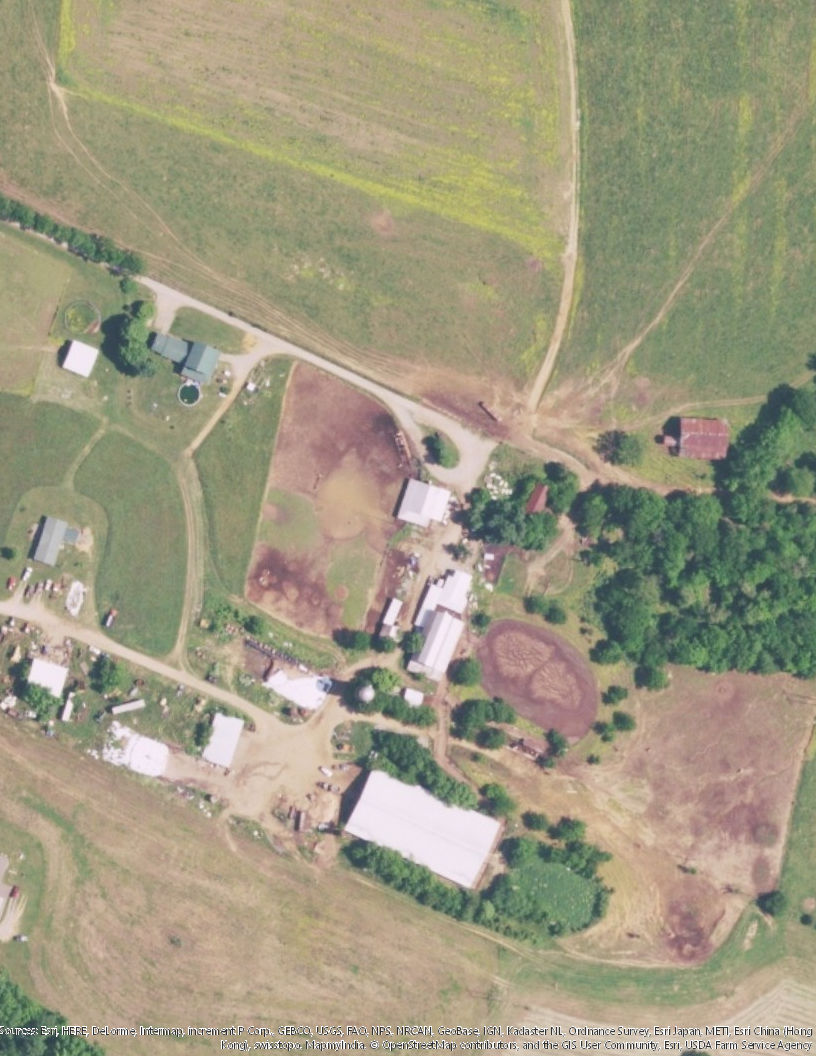cafo: (334, 765, 524, 896), (405, 565, 484, 685), (392, 473, 461, 533)
